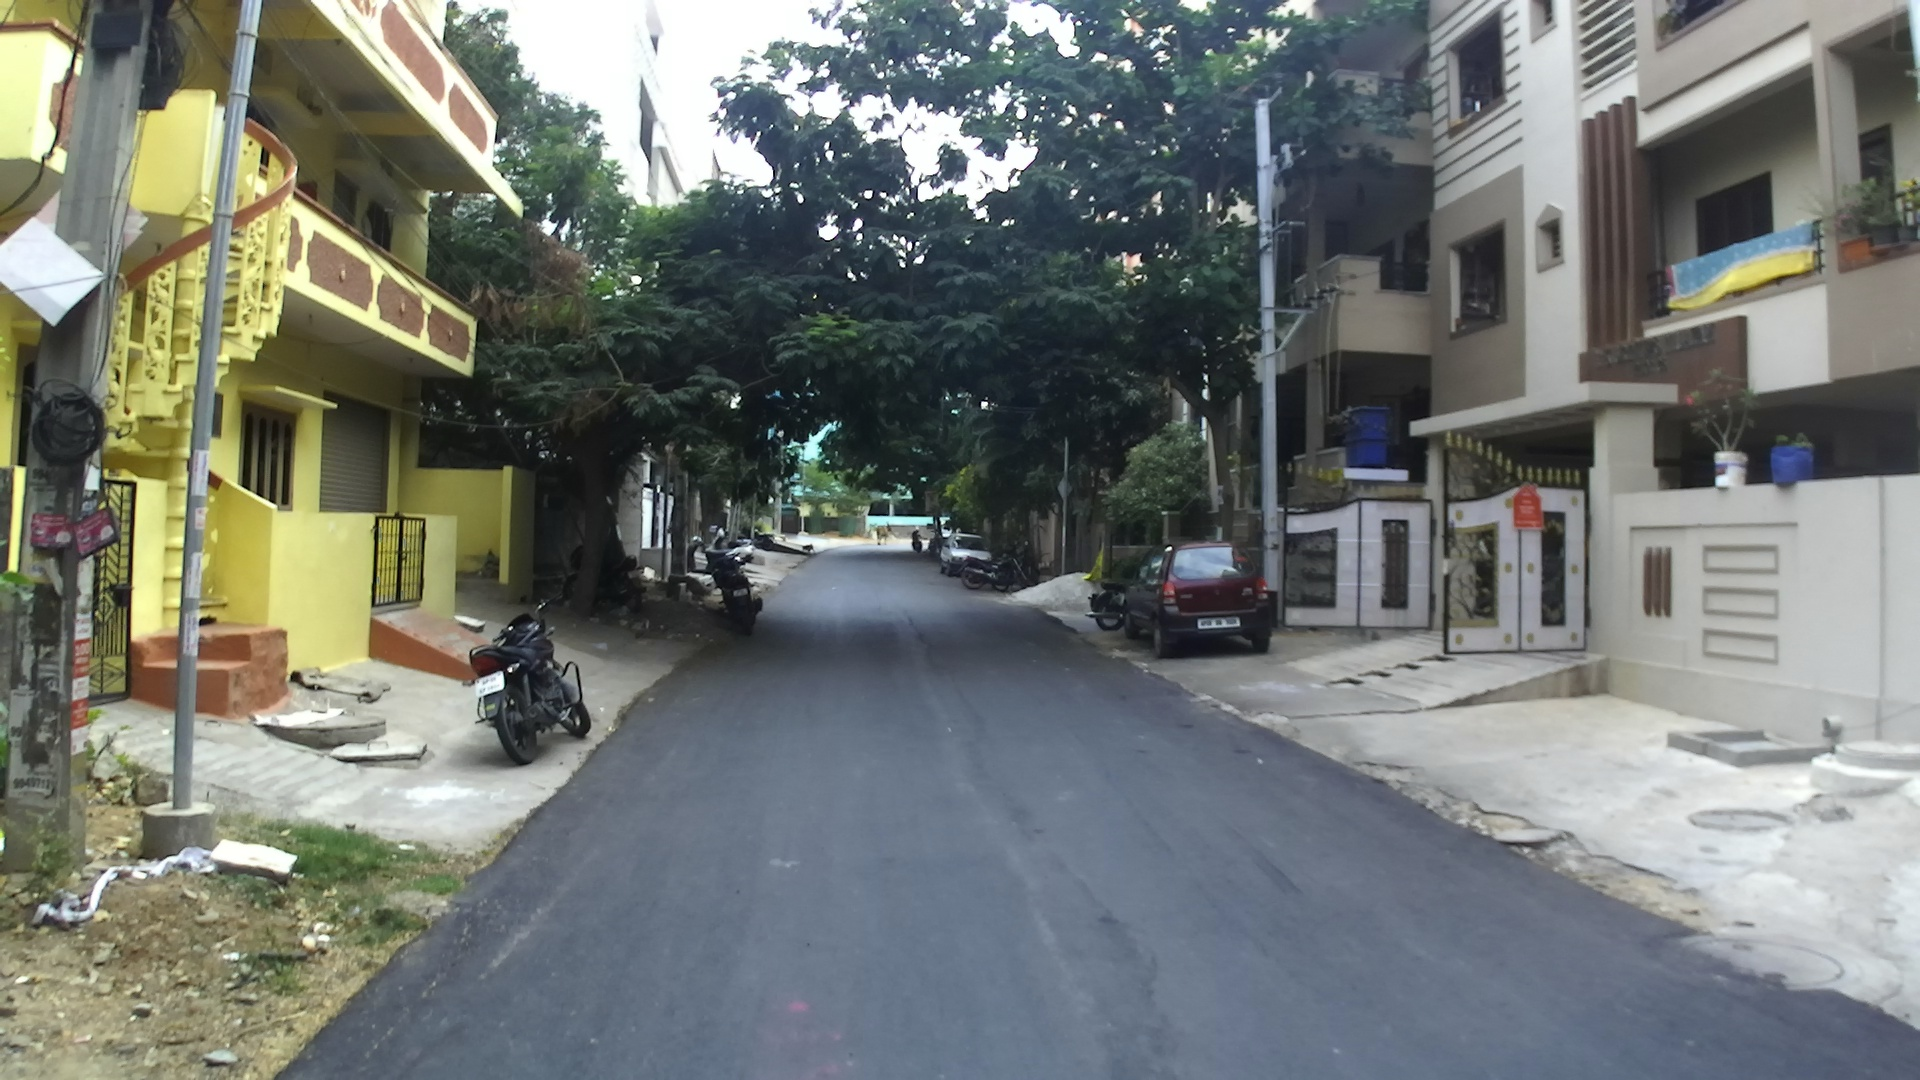vehicle: (469, 611, 593, 766), (1109, 543, 1278, 655), (698, 538, 773, 637), (707, 547, 764, 640), (940, 545, 1002, 589), (938, 539, 996, 584), (935, 538, 986, 574)
